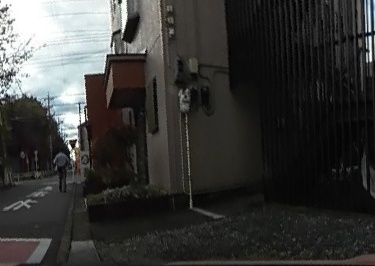person: (53, 149, 70, 192)
